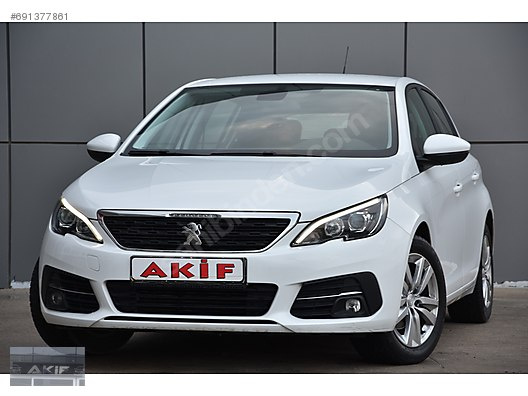peugeot: (17, 61, 506, 358)
